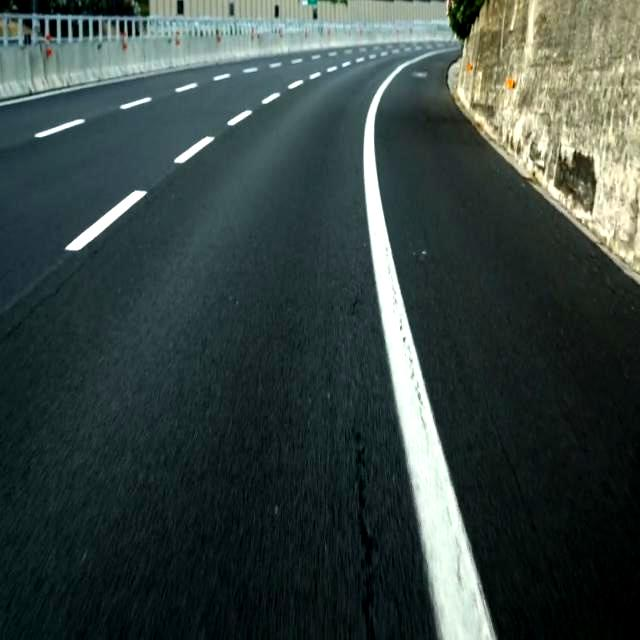lane: (368, 48, 496, 638), (67, 191, 147, 250), (175, 137, 213, 163), (35, 120, 83, 137), (228, 111, 251, 126), (262, 94, 279, 103)
road: (2, 52, 434, 639), (376, 52, 639, 639)
